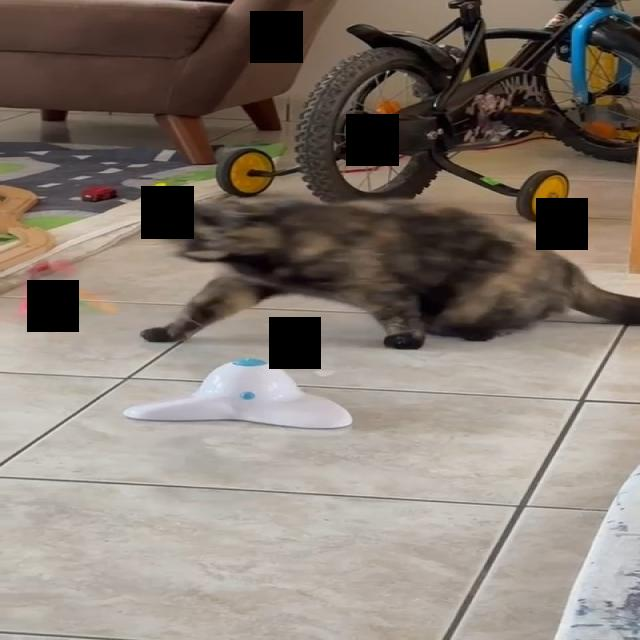authorized: (138, 194, 638, 349)
